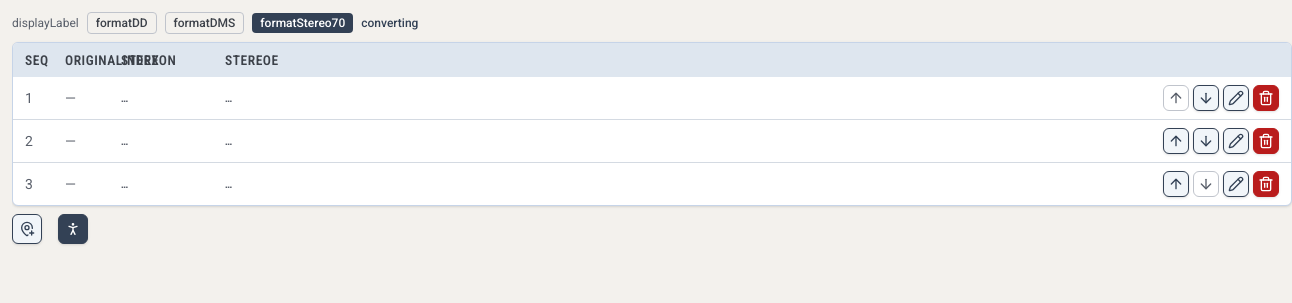
Test case: the Street View toggle › on: pressed, the cta fill, and the name and tooltip follow the state
This screenshot has width=1292, height=303.
Hover over the button named "hideStreetView": x=73, y=229 [58,214,88,244]
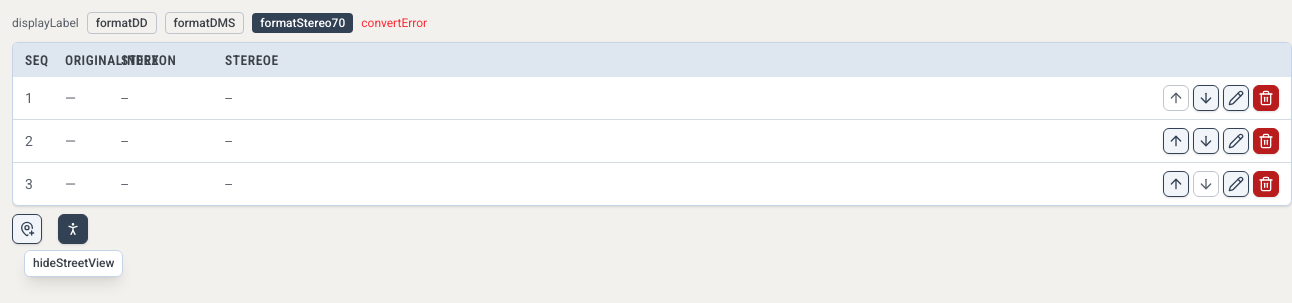
Now the tooltip reads "hideStreetView", box [33,256,114,270]
